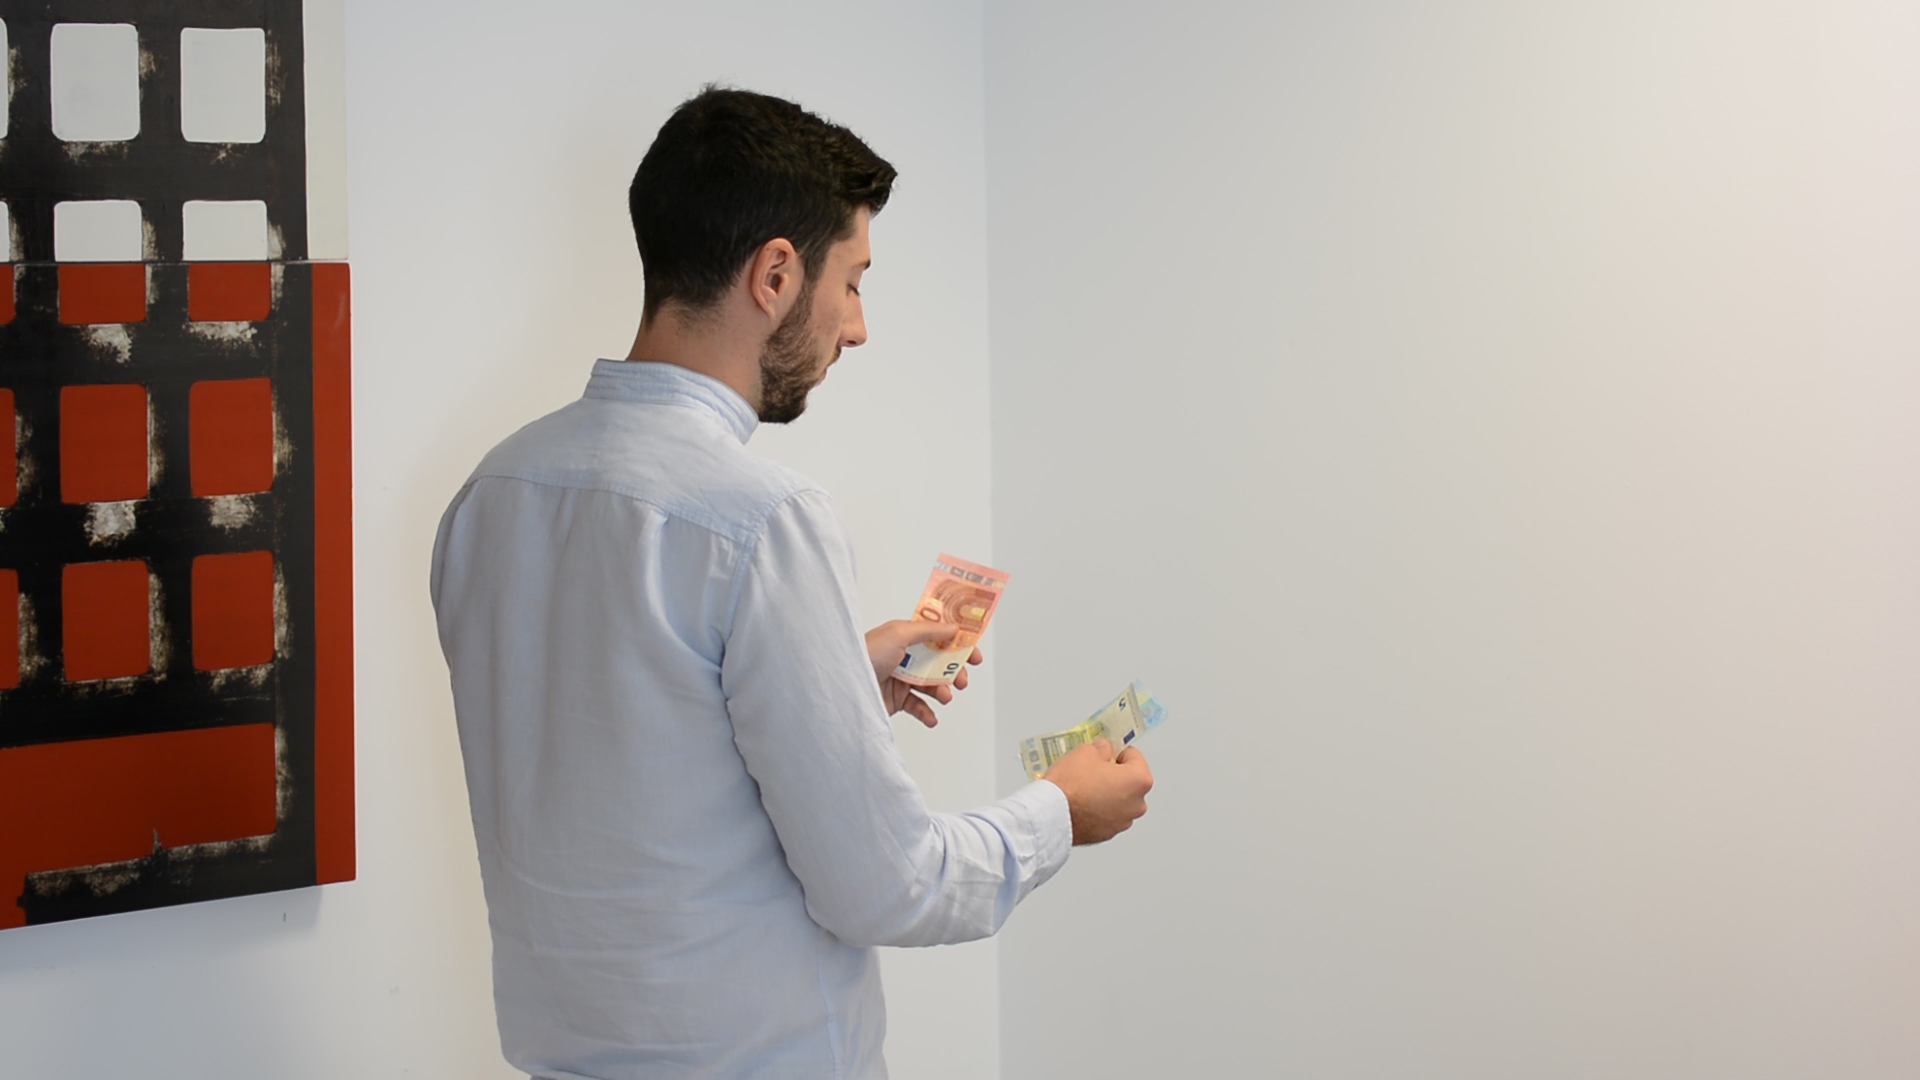billete: (887, 550, 1011, 688), (1018, 676, 1170, 789)
